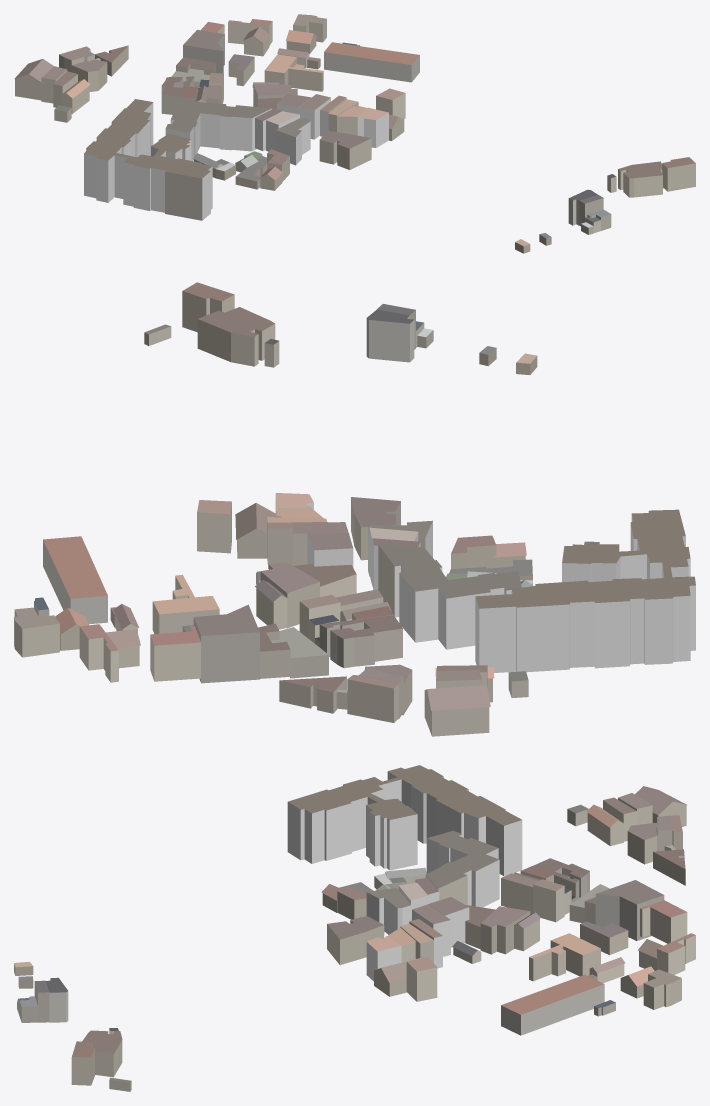
The picture shows the model from 3 angles, top to bottom: view 1: azimuth 30°, elevation 25°; view 2: azimuth 150°, elevation 25°; view 3: azimuth 270°, elevation 25°; orthographic projection. The views are drawn at different scales.
Parts seen in each view (by area): view 1: tuile; view 2: tuile; view 3: tuile.
Part boxes in pixels (x1=…): tuile: x1=14, y1=14, x2=695, y2=253; tuile: x1=14, y1=282, x2=695, y2=736; tuile: x1=14, y1=765, x2=695, y2=1091.
Size of the model in its own units: 246 by 22.49 by 256.
